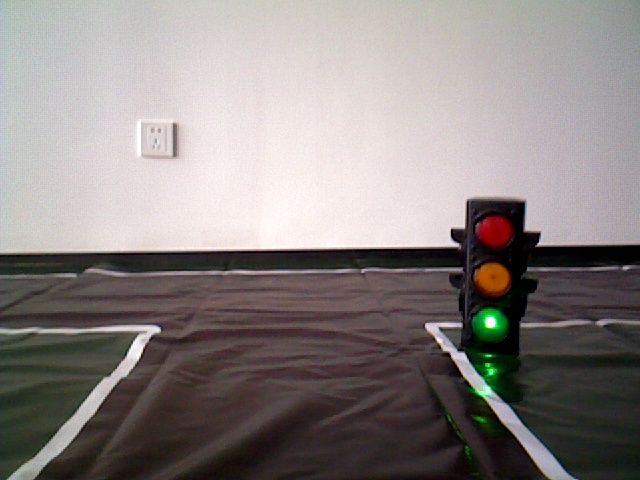green: (464, 202, 515, 348)
